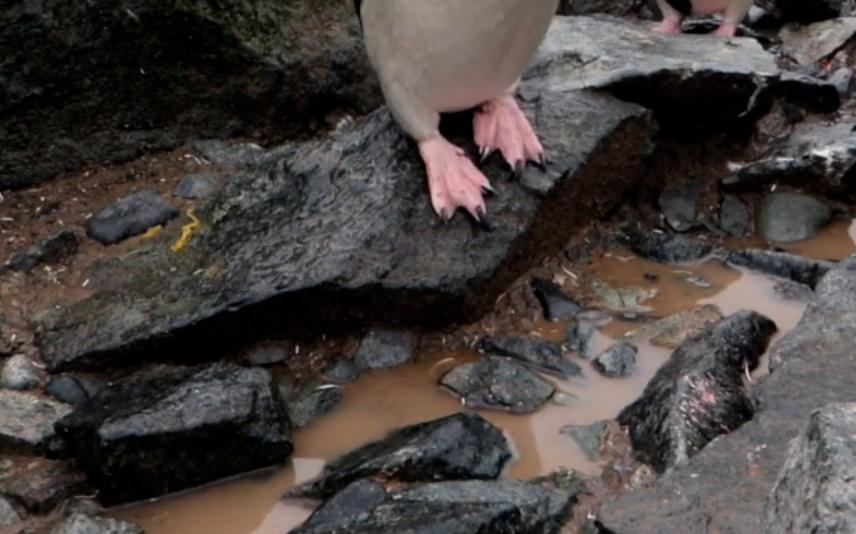Chinstrap Penguin: (193, 0, 695, 217), (614, 0, 796, 30)
